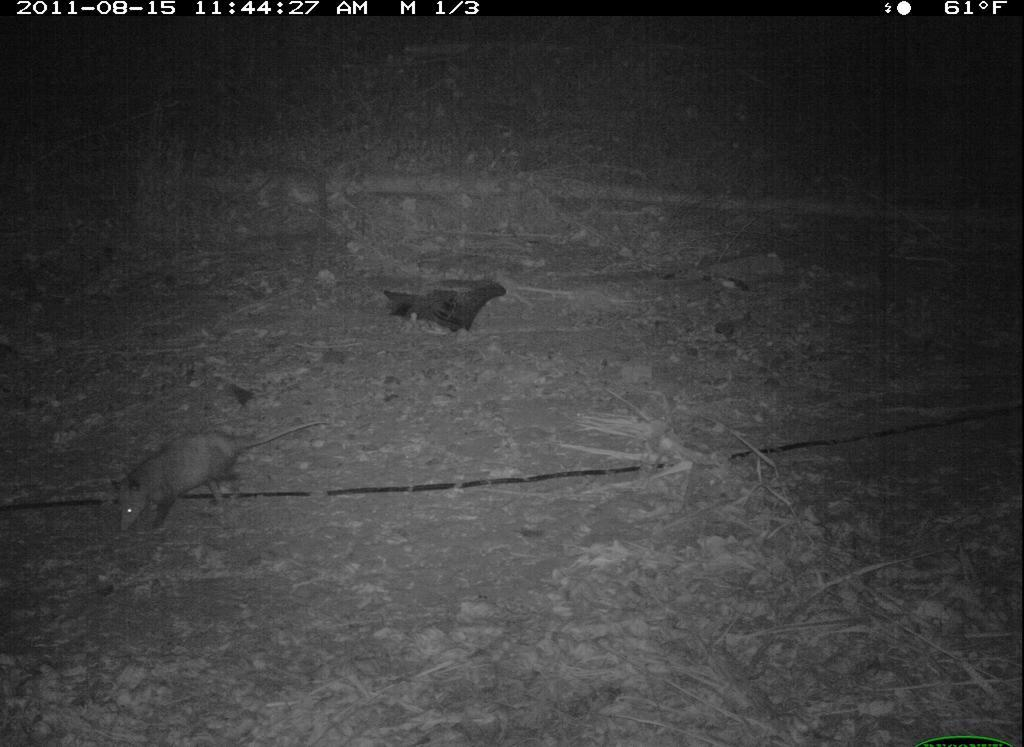opossum: (105, 414, 333, 539)
